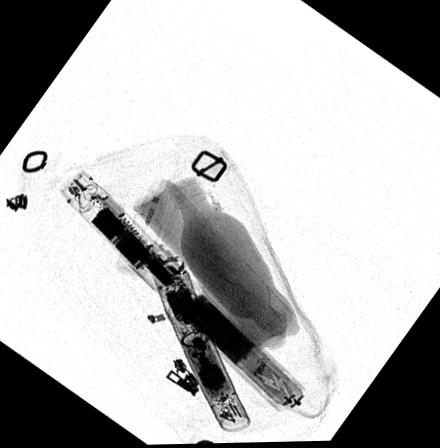Baton: (57, 168, 306, 413), (145, 249, 249, 433)
